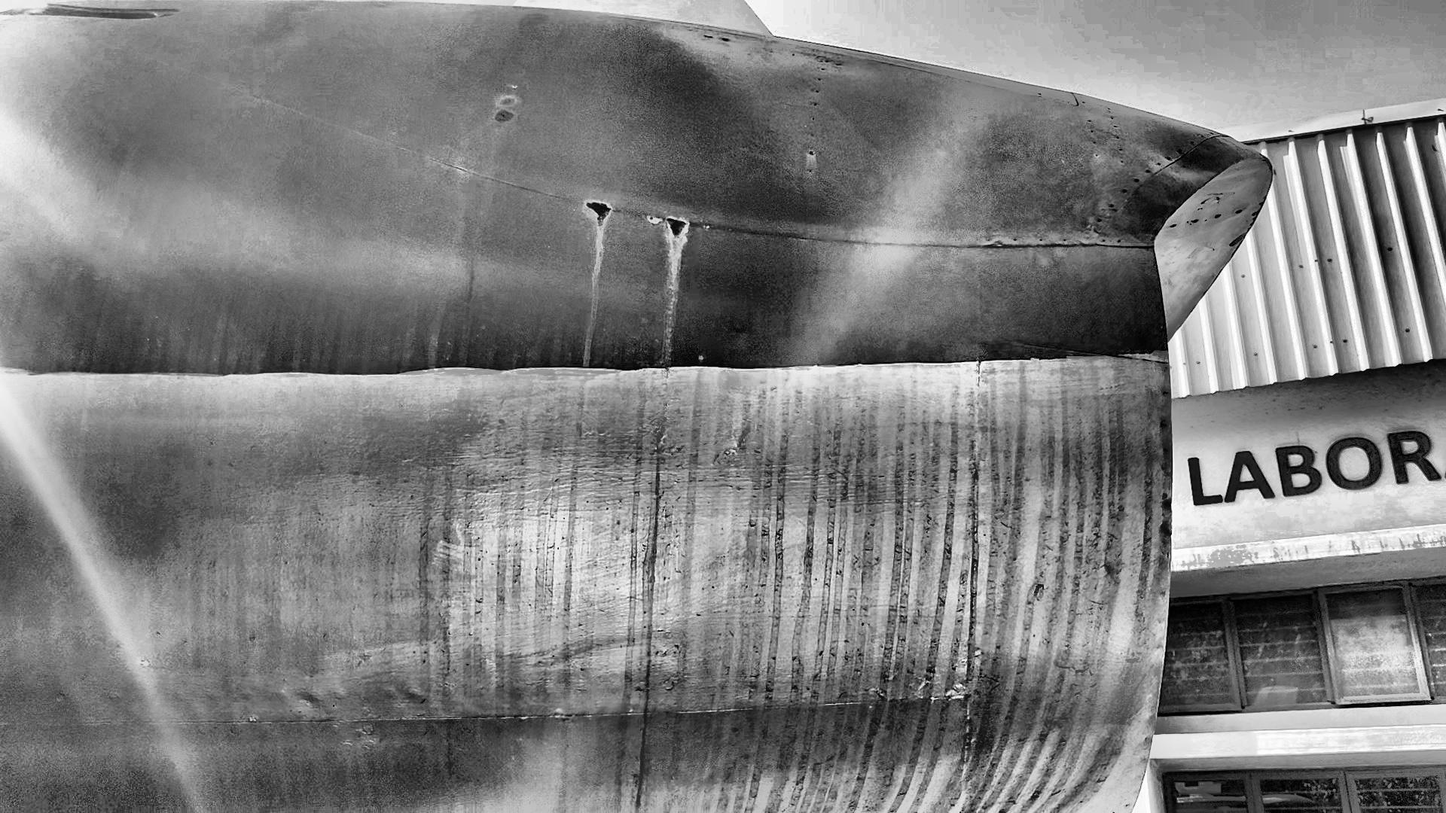dent: (1169, 147, 1221, 179), (982, 237, 1012, 247)
missing-head: (1096, 218, 1103, 224), (1134, 177, 1140, 183), (1122, 188, 1129, 193), (1109, 203, 1115, 208), (1145, 169, 1151, 174), (809, 150, 814, 155), (815, 89, 820, 94), (821, 67, 826, 72), (791, 52, 796, 57), (1178, 148, 1183, 153), (812, 102, 818, 106), (1157, 162, 1162, 166), (1166, 156, 1171, 160), (818, 78, 822, 82)
paint-peel-off: (585, 201, 612, 226), (667, 218, 688, 237), (495, 109, 515, 123), (497, 96, 516, 107)
scratch: (1025, 343, 1169, 365)
